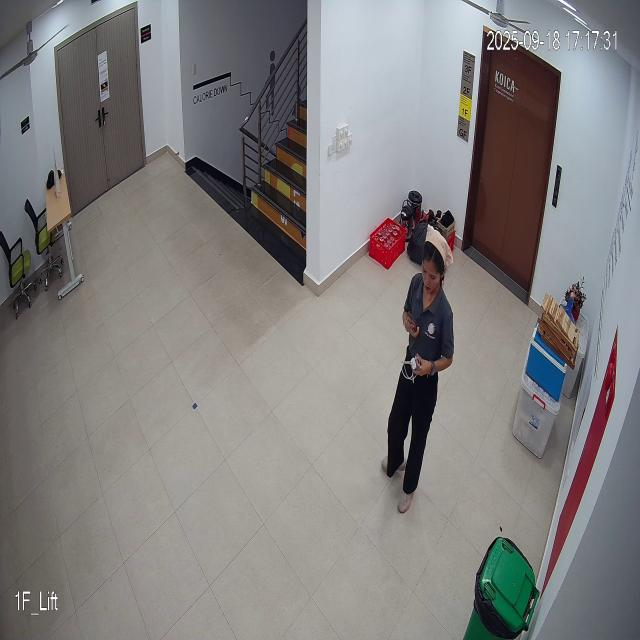face: (416, 222, 452, 303)
